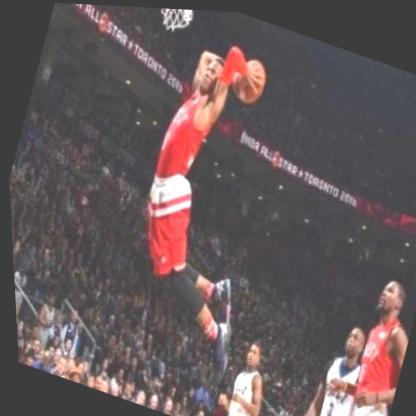basketball: (227, 49, 275, 108)
